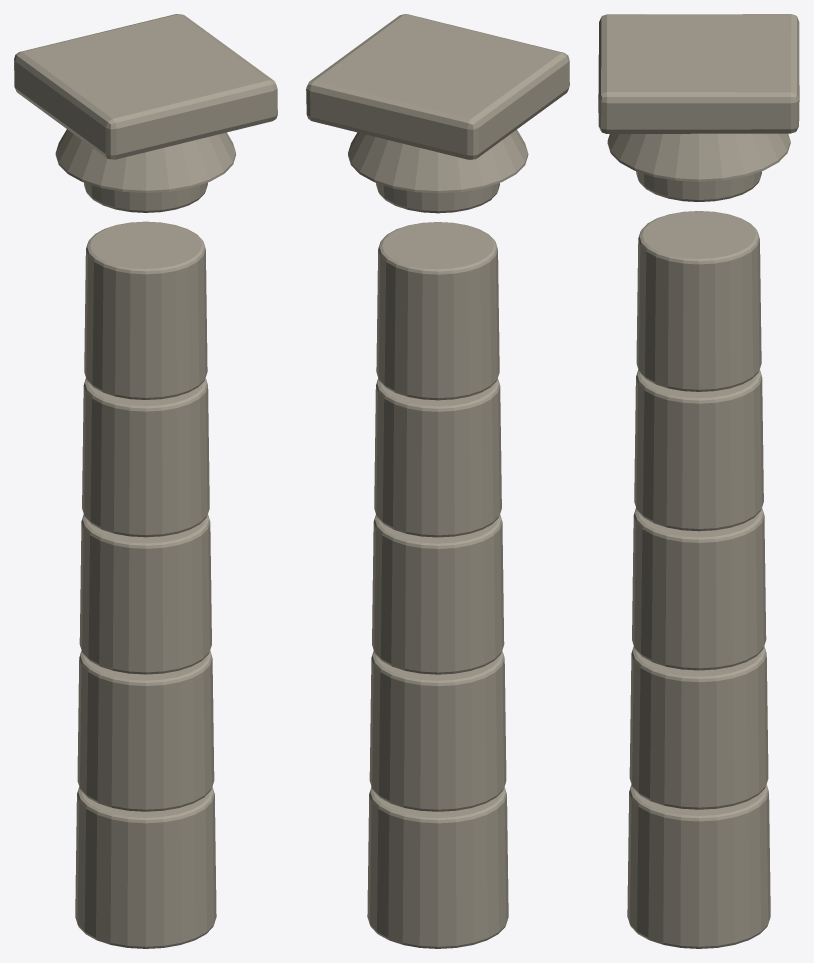
Rendered from falling_column_fragments.glb.
3 views of the same model, side by side, from view 1: azimuth 30°, elevation 25°; view 2: azimuth 150°, elevation 25°; view 3: azimuth 270°, elevation 25° (orthographic).
Parts seen in each view (by area): view 1: ColumnFragment-07-rigid, ColumnFragment-04-rigid, ColumnFragment-00-rigid, ColumnFragment-01-rigid, ColumnFragment-02-rigid, ColumnFragment-03-rigid, ColumnFragment-06-rigid, ColumnFragment-05-rigid; view 2: ColumnFragment-07-rigid, ColumnFragment-04-rigid, ColumnFragment-00-rigid, ColumnFragment-01-rigid, ColumnFragment-02-rigid, ColumnFragment-03-rigid, ColumnFragment-06-rigid, ColumnFragment-05-rigid; view 3: ColumnFragment-07-rigid, ColumnFragment-04-rigid, ColumnFragment-00-rigid, ColumnFragment-01-rigid, ColumnFragment-02-rigid, ColumnFragment-03-rigid, ColumnFragment-06-rigid, ColumnFragment-05-rigid.
Boxes of the visible parts, bbox=[...] form: ColumnFragment-07-rigid: bbox=[14, 14, 277, 159]; ColumnFragment-04-rigid: bbox=[84, 221, 207, 399]; ColumnFragment-00-rigid: bbox=[75, 787, 216, 948]; ColumnFragment-01-rigid: bbox=[77, 651, 214, 811]; ColumnFragment-02-rigid: bbox=[79, 514, 211, 674]; ColumnFragment-03-rigid: bbox=[82, 378, 209, 537]; ColumnFragment-06-rigid: bbox=[55, 129, 235, 192]; ColumnFragment-05-rigid: bbox=[84, 182, 207, 212]; ColumnFragment-07-rigid: bbox=[306, 14, 569, 159]; ColumnFragment-04-rigid: bbox=[376, 222, 499, 400]; ColumnFragment-00-rigid: bbox=[367, 787, 508, 948]; ColumnFragment-01-rigid: bbox=[369, 651, 506, 811]; ColumnFragment-02-rigid: bbox=[372, 514, 504, 674]; ColumnFragment-03-rigid: bbox=[374, 378, 501, 537]; ColumnFragment-06-rigid: bbox=[348, 129, 528, 193]; ColumnFragment-05-rigid: bbox=[376, 183, 499, 213]; ColumnFragment-07-rigid: bbox=[598, 14, 799, 133]; ColumnFragment-04-rigid: bbox=[636, 211, 761, 391]; ColumnFragment-00-rigid: bbox=[627, 784, 770, 948]; ColumnFragment-01-rigid: bbox=[629, 646, 768, 809]; ColumnFragment-02-rigid: bbox=[632, 508, 766, 670]; ColumnFragment-03-rigid: bbox=[634, 370, 763, 531]; ColumnFragment-06-rigid: bbox=[607, 133, 790, 181]; ColumnFragment-05-rigid: bbox=[636, 171, 761, 201].
Size of the model in its own units: 0.8835 by 4.2 by 0.883.
